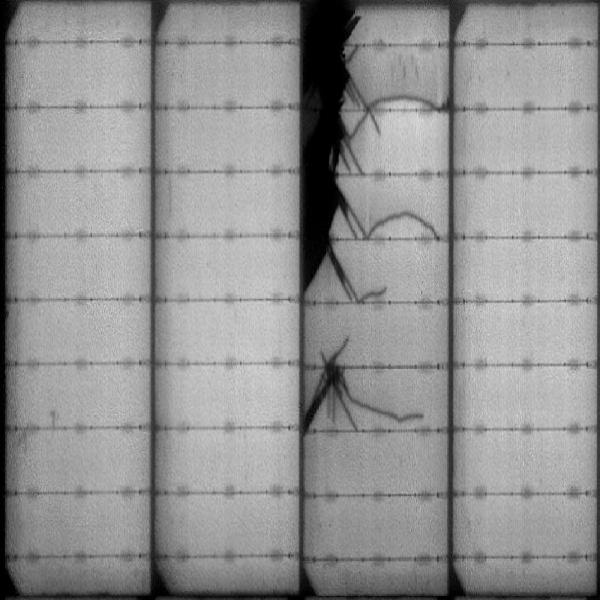broken: (299, 4, 447, 299), (302, 336, 430, 432)
